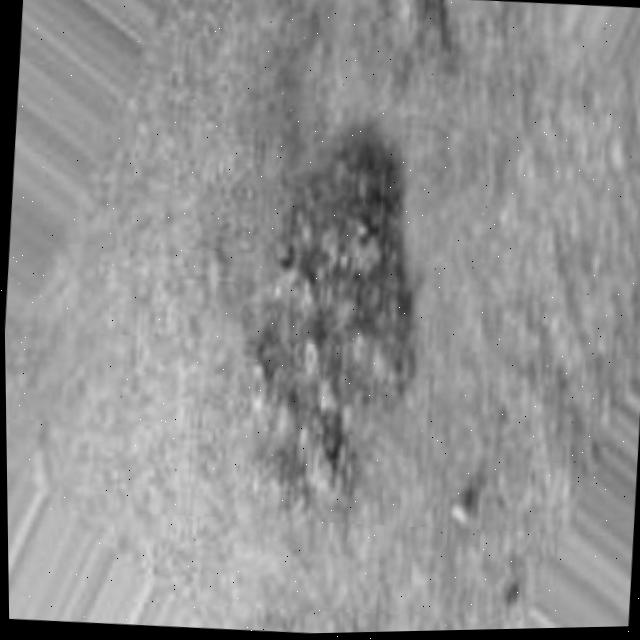Shingles: (227, 141, 451, 488)
